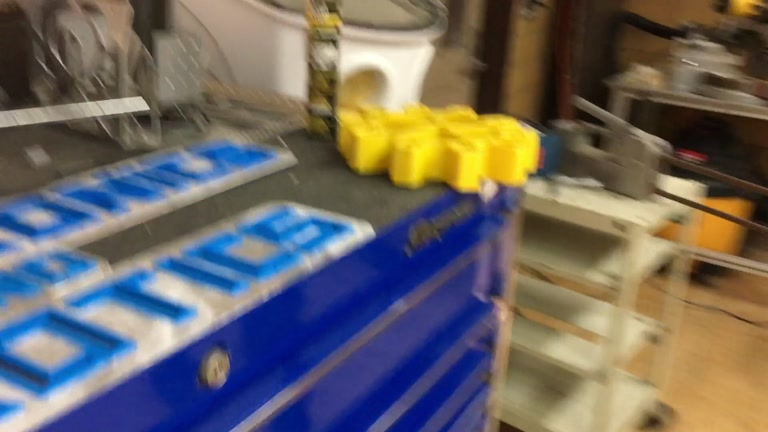gear: (336, 102, 540, 195)
